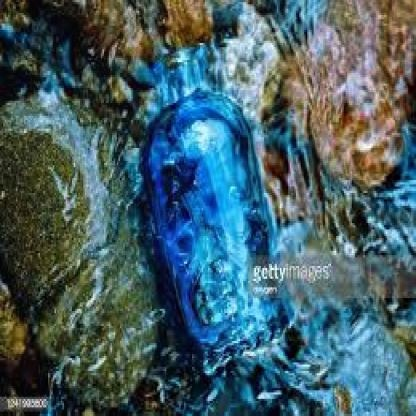gbottle: (150, 54, 280, 356)
